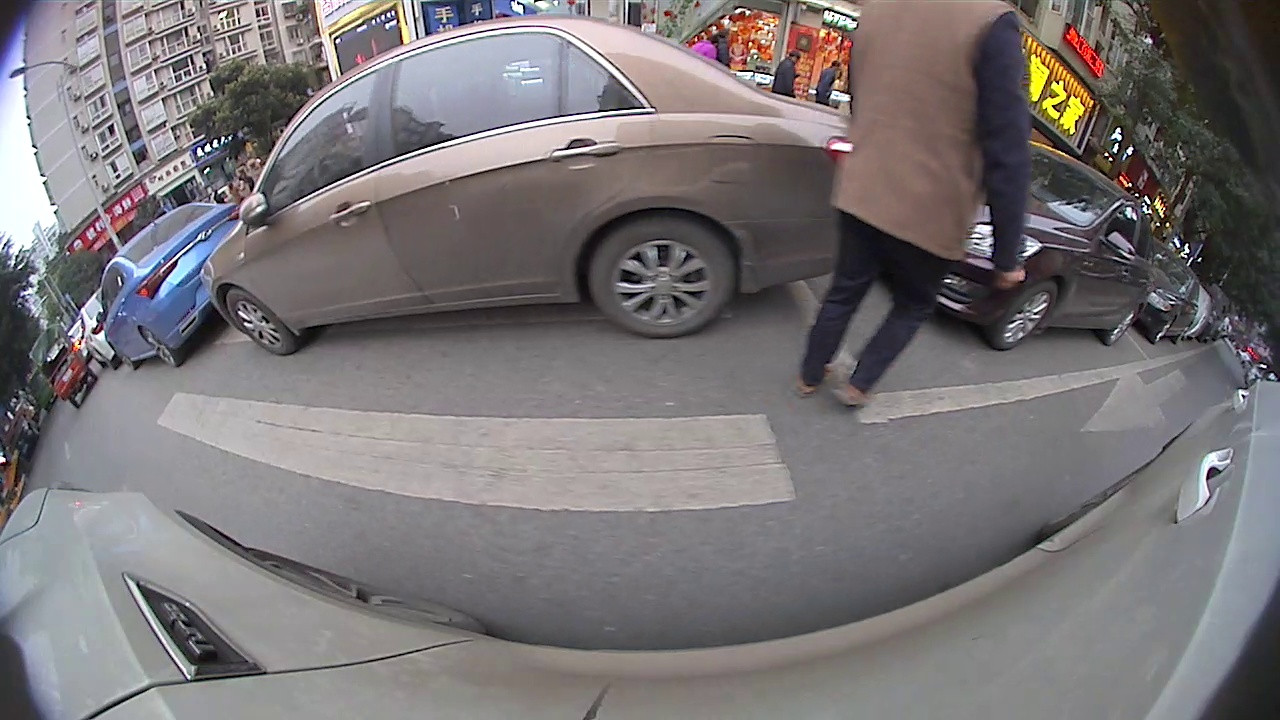car: (201, 14, 851, 360), (939, 138, 1161, 355), (95, 197, 249, 374), (1137, 240, 1204, 349)
front: (214, 286, 299, 356), (985, 276, 1060, 344)
person: (832, 1, 1008, 422), (781, 49, 802, 97), (824, 58, 841, 101)
rear: (588, 224, 742, 337), (135, 327, 182, 369), (1104, 298, 1143, 348)
